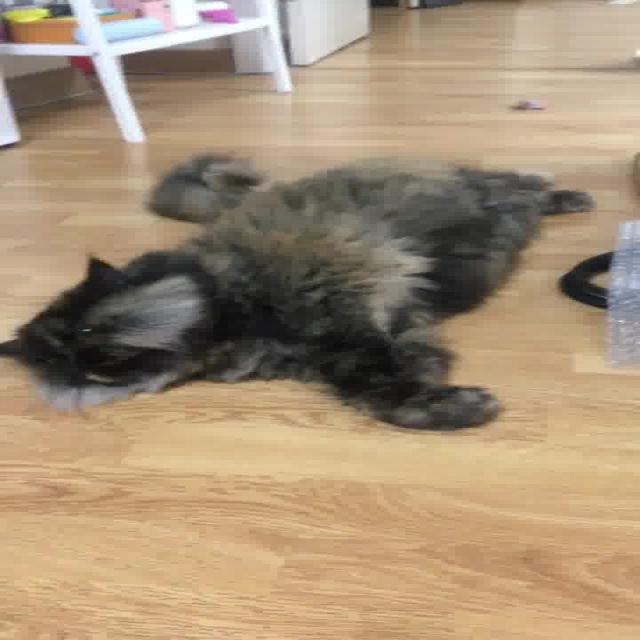cat: (0, 143, 606, 434)
